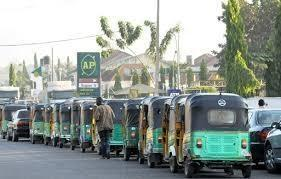keke: (175, 93, 252, 179), (1, 102, 32, 143)
